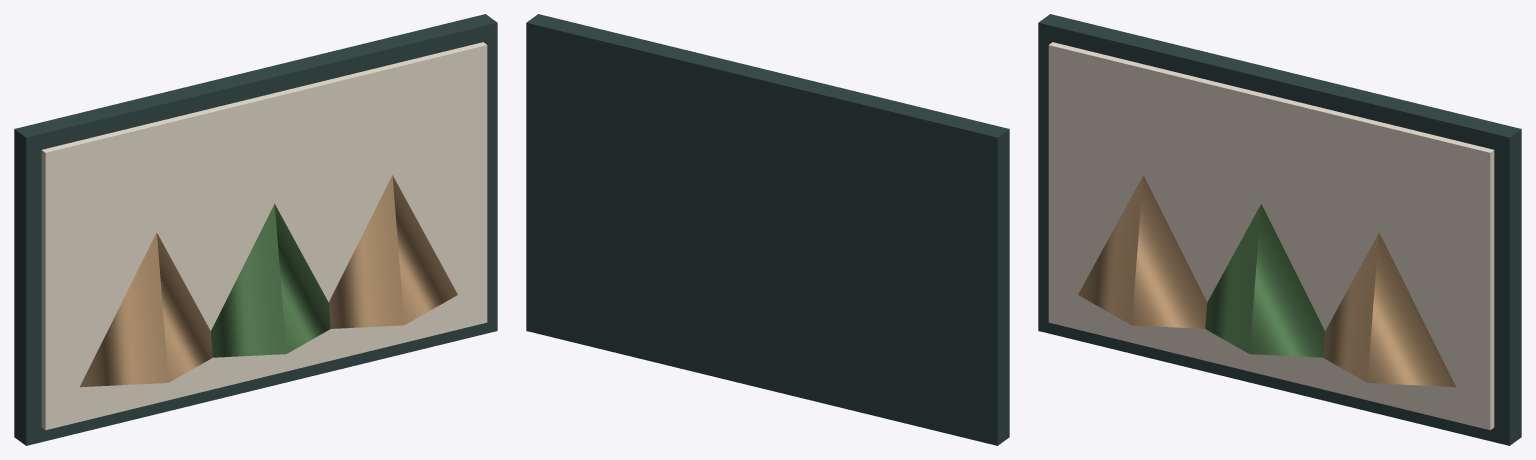
The picture shows the model from 3 angles, left to right: view 1: azimuth 30°, elevation 25°; view 2: azimuth 150°, elevation 25°; view 3: azimuth 330°, elevation 25°; orthographic projection.
Parts seen in each view (by area): view 1: canvas, frame, mountain0, mountain2, mountain1; view 2: frame; view 3: canvas, frame, mountain2, mountain0, mountain1.
Boxes of the visible parts, x1,y1,x2,y2 form: canvas: [41, 42, 487, 430]; frame: [14, 14, 497, 445]; mountain0: [80, 232, 212, 387]; mountain2: [328, 175, 457, 328]; mountain1: [211, 204, 330, 357]; frame: [526, 14, 1009, 445]; canvas: [1048, 42, 1494, 430]; frame: [1038, 14, 1521, 445]; mountain2: [1323, 232, 1455, 387]; mountain0: [1078, 175, 1207, 328]; mountain1: [1205, 204, 1324, 357].
Size of the model in its own units: 0.8 by 0.5 by 0.1075.
